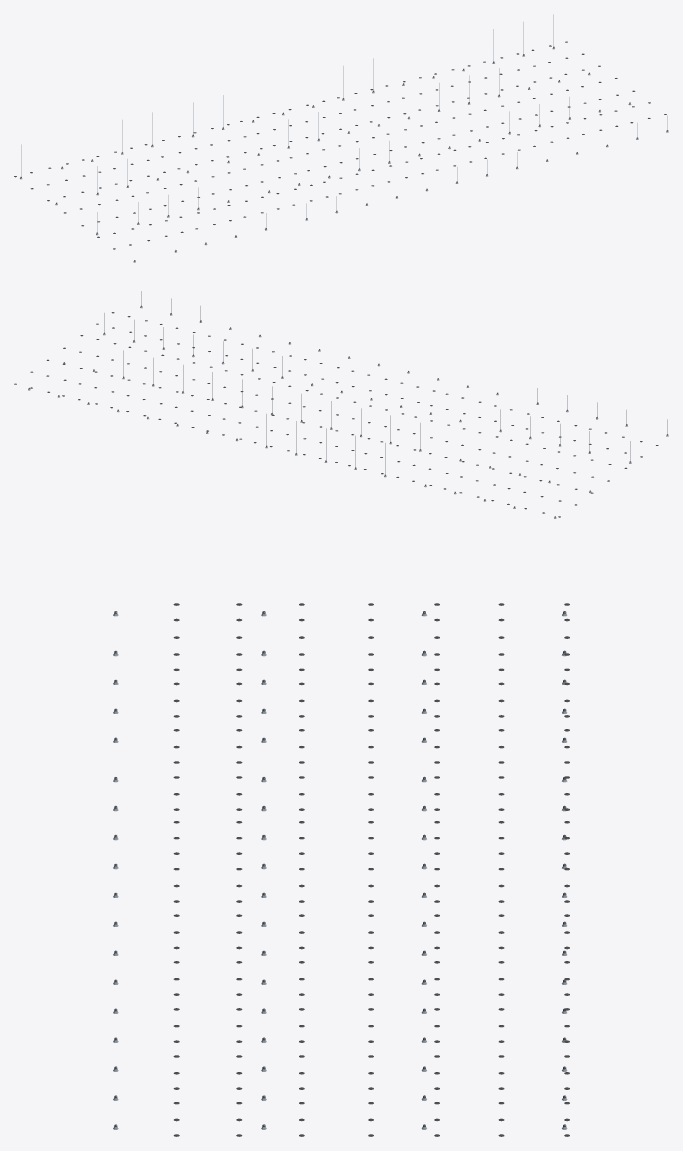
The model's file is JSJ_Deng.FBX.
The picture shows the model from 3 angles, top to bottom: view 1: azimuth 30°, elevation 25°; view 2: azimuth 150°, elevation 25°; view 3: azimuth 270°, elevation 25°; orthographic projection. The views are drawn at different scales.
Parts seen in each view (by area): view 1: YF_Model_JSJ_Deng; view 2: YF_Model_JSJ_Deng; view 3: YF_Model_JSJ_Deng.
Part boxes in pixels (box(x1,y1,x2,y2)): YF_Model_JSJ_Deng: box(14, 14, 668, 262); YF_Model_JSJ_Deng: box(14, 291, 668, 518); YF_Model_JSJ_Deng: box(113, 603, 569, 1136).
Bounding box in the file's own units: 10287 × 613 × 3724.
Materials: 2 (1 with a texture image).
